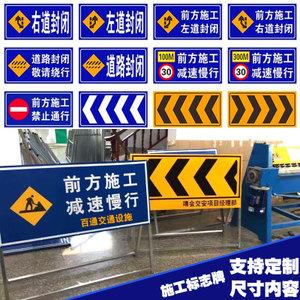sign: (2, 170, 145, 211), (6, 47, 73, 84), (228, 48, 296, 84), (79, 49, 148, 84), (154, 92, 223, 127), (3, 93, 73, 127), (79, 91, 147, 126), (79, 5, 149, 39), (153, 5, 223, 39), (229, 5, 297, 40), (154, 49, 222, 83), (229, 93, 297, 126), (4, 6, 72, 38)
